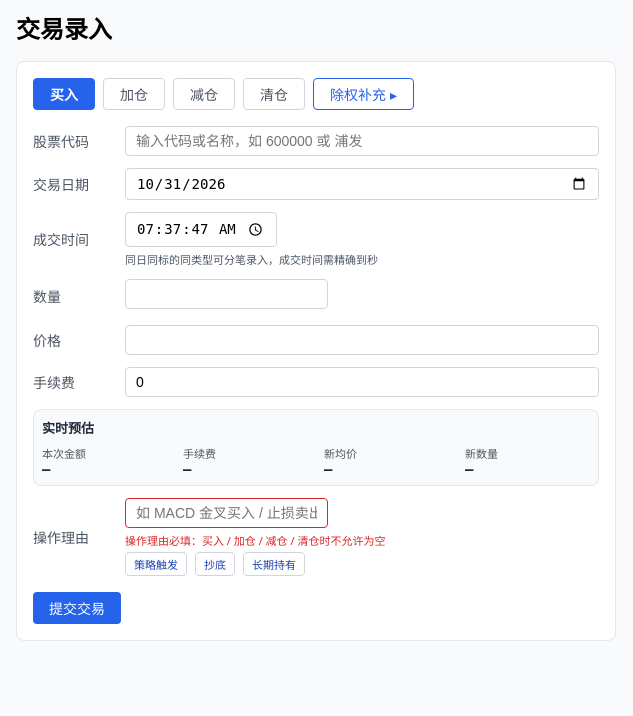
Test: T68 ① · 交易类型 Tab 组与字段联动 › 收起「除权补充」次级面板 → 交易类型回到「买入」
The width and height of the screenshot is (633, 716).
Click the tab "除权补充 ▸" at (363, 94), box top-left (313, 78), bottom-right (414, 110)
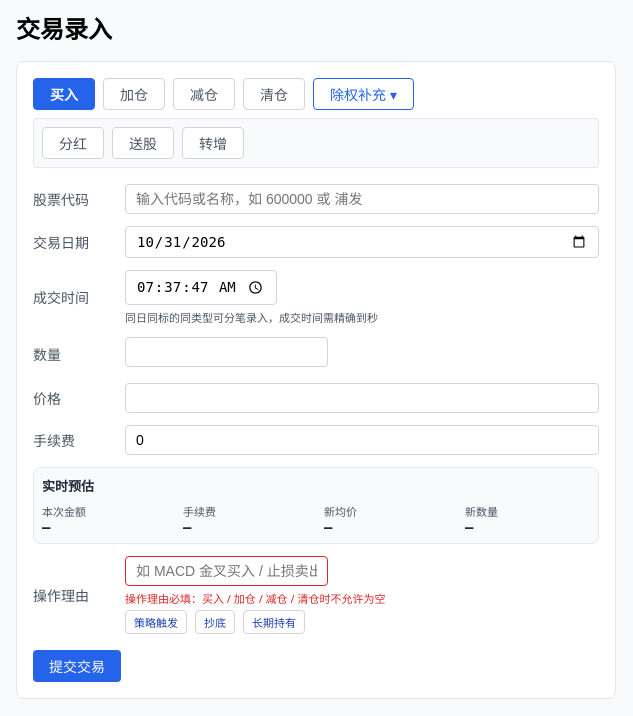
Click the button with test id "trade-tab-bonus" at (143, 143), box top-left (112, 127), bottom-right (174, 159)
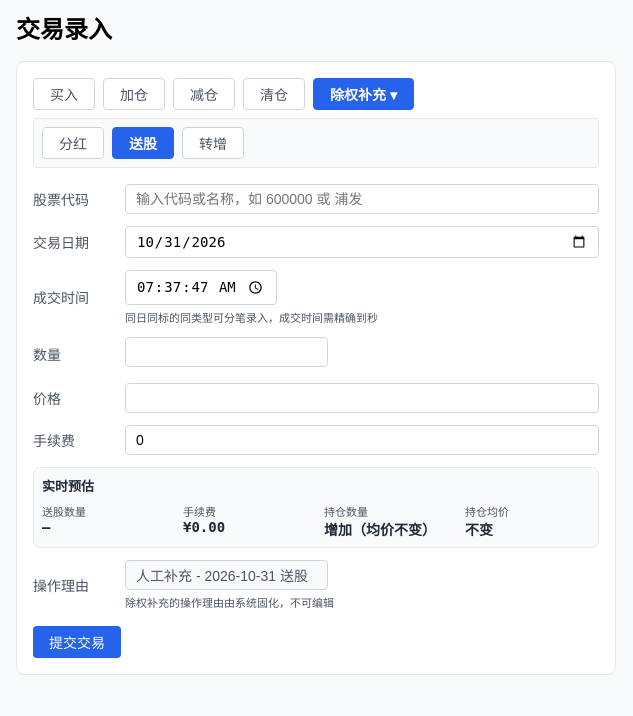
Expected: the tab with test id "trade-tab-exdividend" is selected
Click the tab with test id "trade-tab-exdividend" at (363, 94), box top-left (313, 78), bottom-right (414, 110)
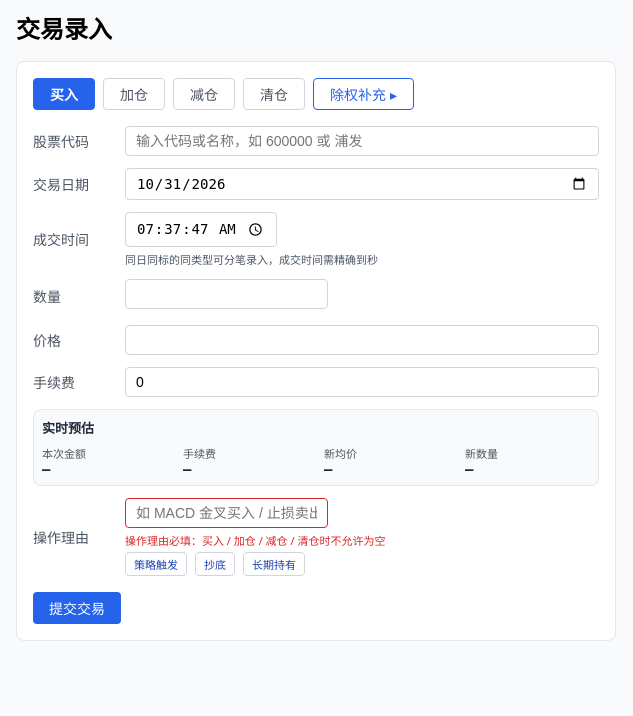
Expected: the element with test id "trade-exdividend-panel" is gone
Expected: the field labelled "操作理由" is empty, top-left (125, 498), bottom-right (328, 528)
